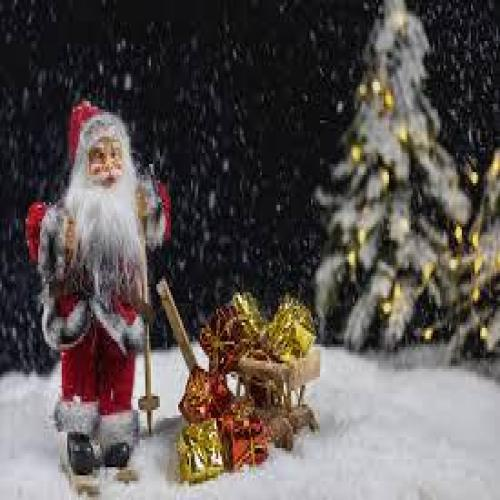Santa: (26, 99, 170, 475)
